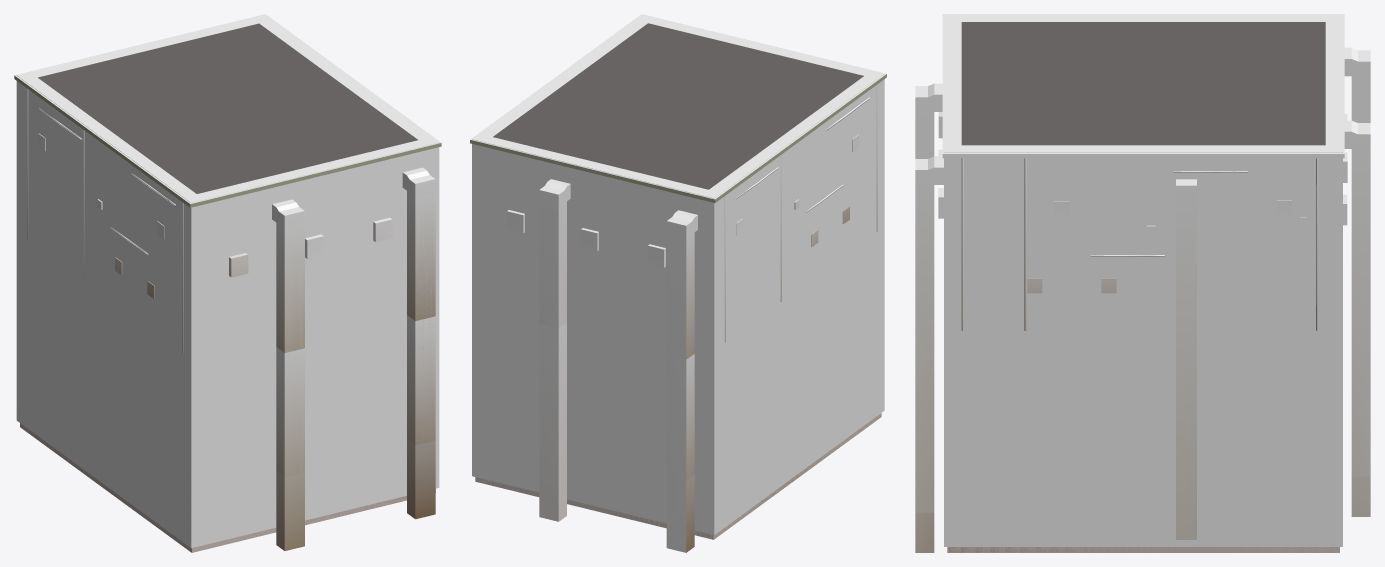
File: warehouse1.dae
The picture shows the model from 3 angles, left to right: view 1: azimuth 30°, elevation 25°; view 2: azimuth 150°, elevation 25°; view 3: azimuth 270°, elevation 25°; orthographic projection. The views are drawn at different scales.
Parts seen in each view (by area): view 1: Colmesh-1, warehouse1_a100, warehouse1_a250, warehouse1_a500; view 2: Colmesh-1, warehouse1_a100, warehouse1_a250, warehouse1_a500; view 3: Colmesh-1, warehouse1_a100, warehouse1_a250, warehouse1_a500.
Boxes of the visible parts, <box> form: Colmesh-1: <box>16,14,439,548</box>; warehouse1_a100: <box>20,23,435,552</box>; warehouse1_a250: <box>14,14,441,551</box>; warehouse1_a500: <box>27,88,435,552</box>; Colmesh-1: <box>472,14,884,535</box>; warehouse1_a100: <box>475,23,881,539</box>; warehouse1_a250: <box>470,14,886,538</box>; warehouse1_a500: <box>506,84,877,552</box>; Colmesh-1: <box>915,14,1370,546</box>; warehouse1_a100: <box>947,22,1339,552</box>; warehouse1_a250: <box>916,14,1357,552</box>; warehouse1_a500: <box>915,112,1370,552</box>.
Size of the model in its own units: 14.78 by 19.56 by 19.4.
